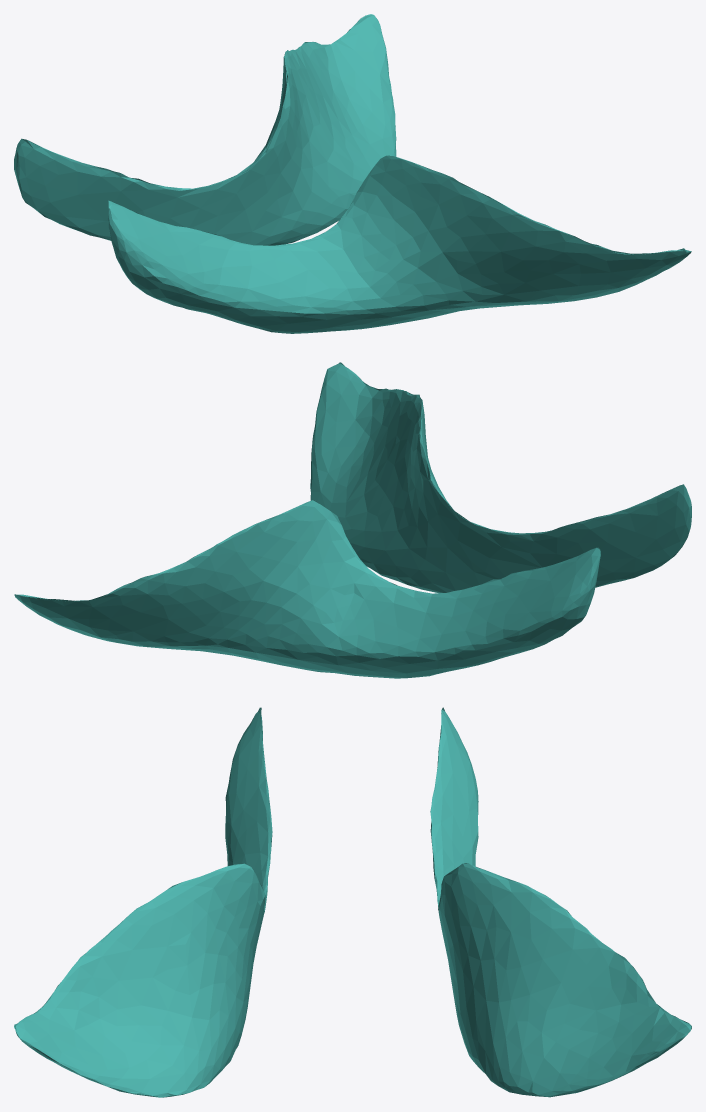
3 renders of one model, top to bottom at view 1: azimuth 30°, elevation 25°; view 2: azimuth 150°, elevation 25°; view 3: azimuth 270°, elevation 25°, orthographic. The views are drawn at different scales.
Visible parts, largest first — view 1: 590.obj; view 2: 590.obj; view 3: 590.obj.
Boxes of the visible parts, box(x1,y1,x2,y2) form: 590.obj: box(14, 14, 691, 333); 590.obj: box(14, 362, 691, 678); 590.obj: box(14, 707, 691, 1097).
Bounding box in the file's own units: 3005 × 1102 × 3504.
